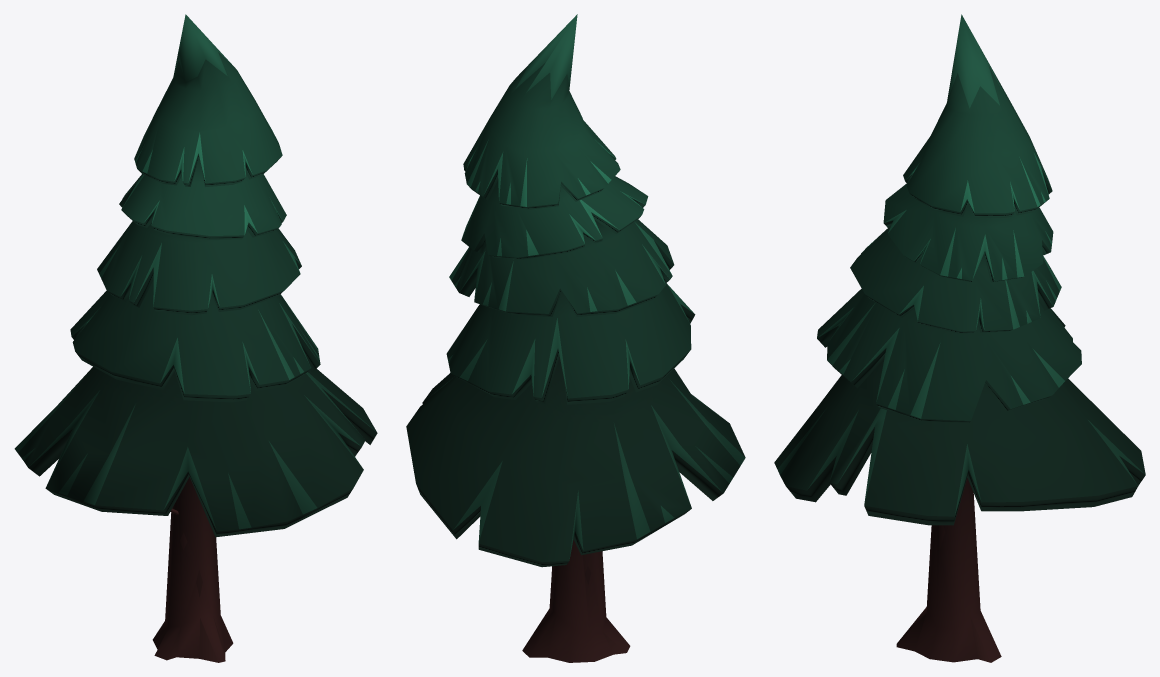
The model's file is Tree_Pine.fbx.
3 views of the same model, side by side, from view 1: azimuth 30°, elevation 25°; view 2: azimuth 150°, elevation 25°; view 3: azimuth 270°, elevation 25° (orthographic).
Parts seen in each view (by area): view 1: Tree_Pine; view 2: Tree_Pine; view 3: Tree_Pine.
Part boxes in pixels (x1=…): Tree_Pine: x1=14, y1=14, x2=377, y2=662; Tree_Pine: x1=406, y1=14, x2=745, y2=662; Tree_Pine: x1=774, y1=14, x2=1145, y2=662.
Bounding box in the file's own units: 9.78 × 19.34 × 10.35.
